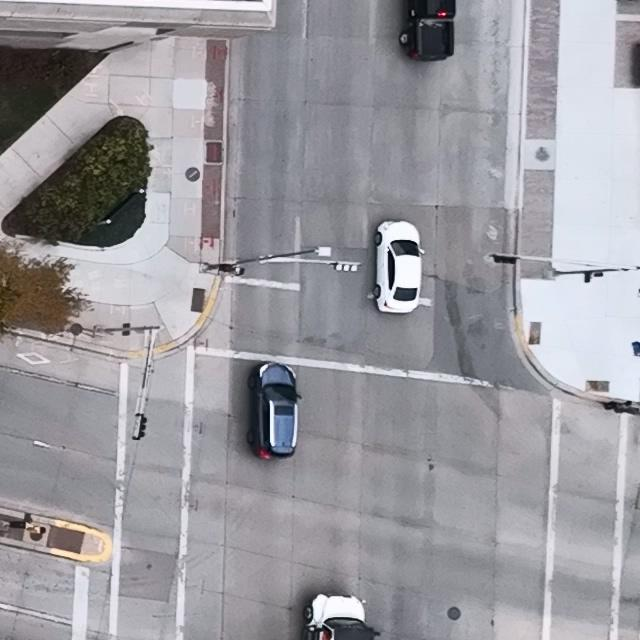car: (246, 362, 303, 459), (373, 219, 425, 314), (305, 592, 381, 640), (399, 0, 457, 60)
